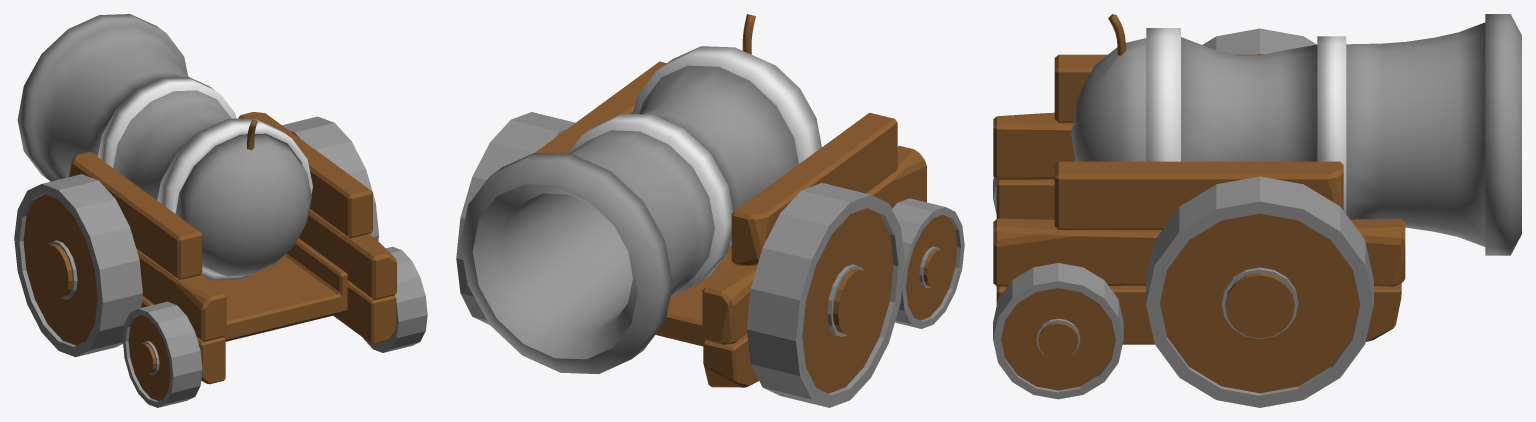
File: Cannon.fbx
3 renders of one model, left to right at view 1: azimuth 30°, elevation 25°; view 2: azimuth 150°, elevation 25°; view 3: azimuth 270°, elevation 25°, orthographic. The views are drawn at different scales.
Visible parts, largest first — view 1: Wheels, Cannon_Front, Planks, Cannon_Back, Cannon_Platform; view 2: Cannon_Front, Wheels, Planks, Cannon_Platform, Cannon_Back; view 3: Cannon_Front, Wheels, Planks, Cannon_Back.
Boxes of the visible parts, x1,y1,x2,y2 form: Wheels: (14,116,427,407); Cannon_Front: (17,14,312,280); Planks: (69,112,396,384); Cannon_Back: (176,119,311,276); Cannon_Platform: (198,238,347,341); Cannon_Front: (460,46,820,374); Wheels: (456,112,964,407); Planks: (535,61,926,387); Cannon_Platform: (655,245,737,346); Cannon_Back: (742,14,821,147); Cannon_Front: (1146,14,1521,255); Wheels: (993,28,1373,407); Planks: (993,54,1405,344); Cannon_Back: (1071,14,1146,161).
Bounding box in the file's own units: 427 × 344 × 538.
